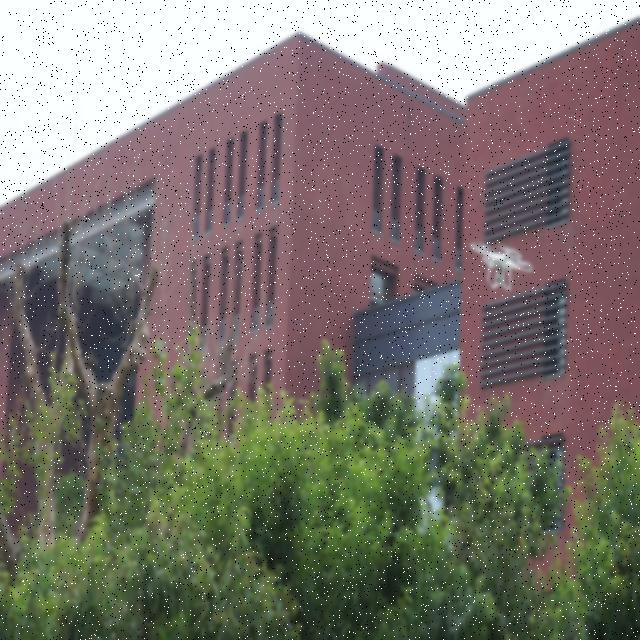UAV: (470, 243, 533, 291)
